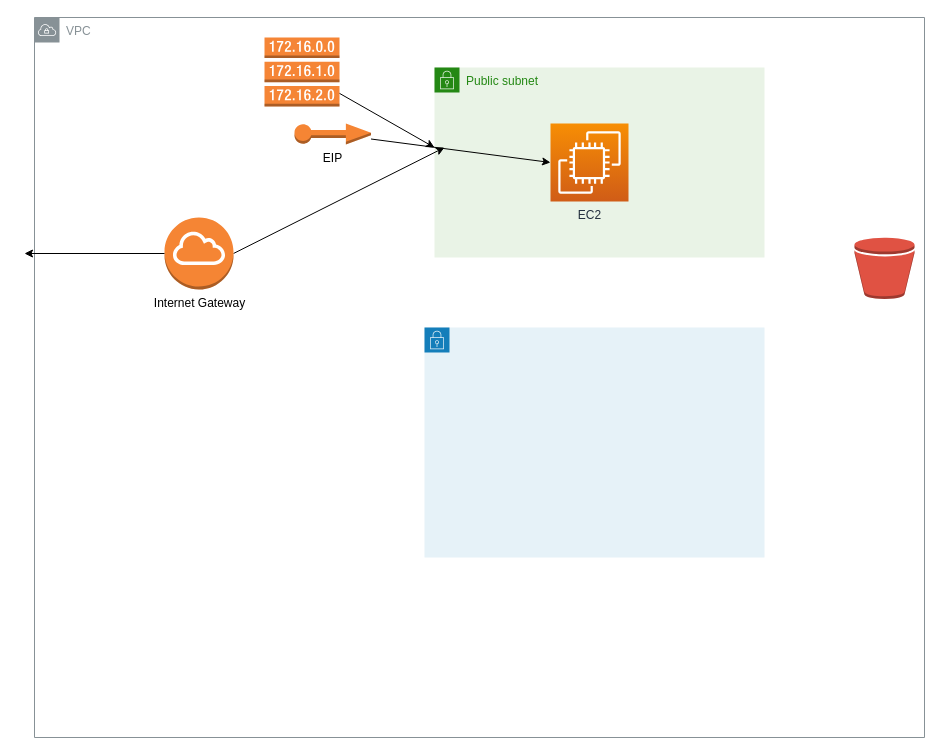
Some shapes in this 942 by 755 pixel diagram are drawn without their labels. Each missing label, with the box of its shape:
Private subnet: (424, 326, 764, 558)
S3 Bucket: (854, 236, 914, 299)
